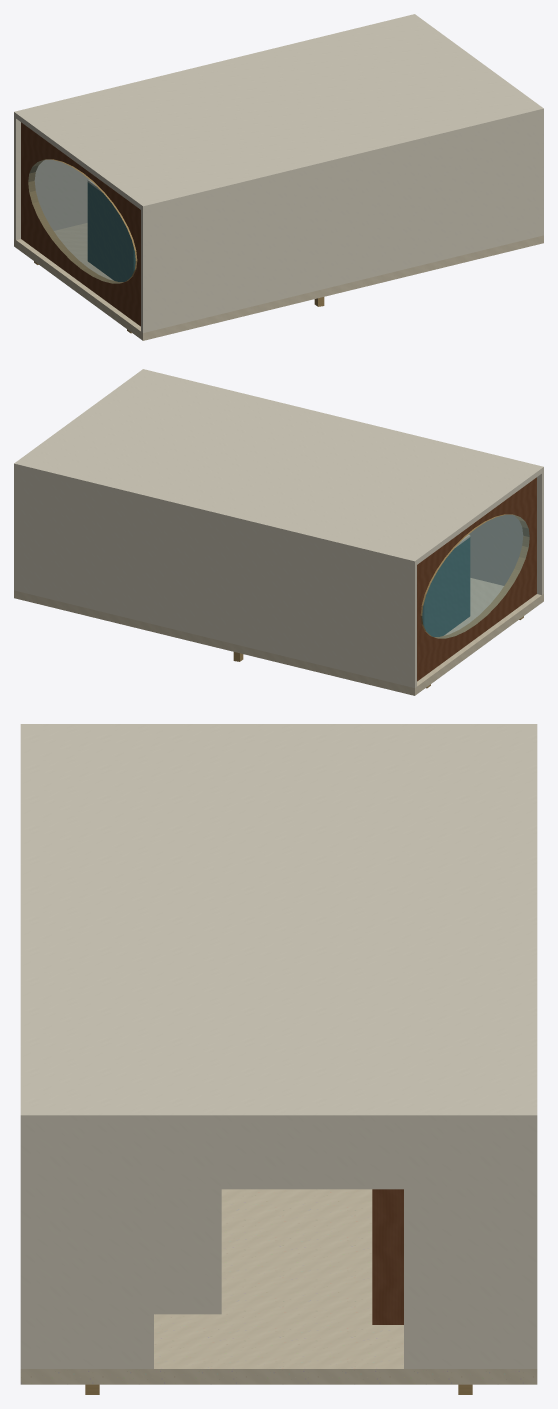
Rendered from NightGardenD15Specialty_446_r002.glb.
3 views of the same model, one above another, from view 1: azimuth 30°, elevation 25°; view 2: azimuth 150°, elevation 25°; view 3: azimuth 270°, elevation 25° (orthographic). The views are drawn at different scales.
Visible parts, largest first — view 1: NG446_RuntimeBatch_001, NG446_OvalAtriumGlass, NG446_RoomFloor, NG446_RuntimeBatch_002, NG446_RuntimeBatch_006, NG446_RuntimeBatch_004; view 2: NG446_RuntimeBatch_001, NG446_OvalAtriumGlass, NG446_RoomFloor, NG446_RuntimeBatch_002, NG446_RuntimeBatch_006, NG446_RuntimeBatch_004; view 3: NG446_RuntimeBatch_001, NG446_RoomFloor, NG446_RuntimeBatch_002.
Part boxes in pixels (x1=…): NG446_RuntimeBatch_001: x1=14, y1=14, x2=543, y2=332; NG446_OvalAtriumGlass: x1=28, y1=160, x2=135, y2=283; NG446_RoomFloor: x1=14, y1=223, x2=543, y2=340; NG446_RuntimeBatch_002: x1=21, y1=122, x2=140, y2=326; NG446_RuntimeBatch_006: x1=87, y1=182, x2=135, y2=281; NG446_RuntimeBatch_004: x1=28, y1=159, x2=324, y2=333; NG446_RuntimeBatch_001: x1=14, y1=369, x2=543, y2=687; NG446_OvalAtriumGlass: x1=422, y1=515, x2=529, y2=638; NG446_RoomFloor: x1=14, y1=578, x2=543, y2=695; NG446_RuntimeBatch_002: x1=417, y1=477, x2=536, y2=681; NG446_RuntimeBatch_006: x1=422, y1=537, x2=470, y2=636; NG446_RuntimeBatch_004: x1=233, y1=514, x2=529, y2=688; NG446_RuntimeBatch_001: x1=20, y1=724, x2=537, y2=1368; NG446_RoomFloor: x1=20, y1=1189, x2=537, y2=1384; NG446_RuntimeBatch_002: x1=372, y1=1189, x2=403, y2=1324.
Size of the model in its own units: 12.9 by 4.91 by 7.2.
58 materials, 43 textured.
